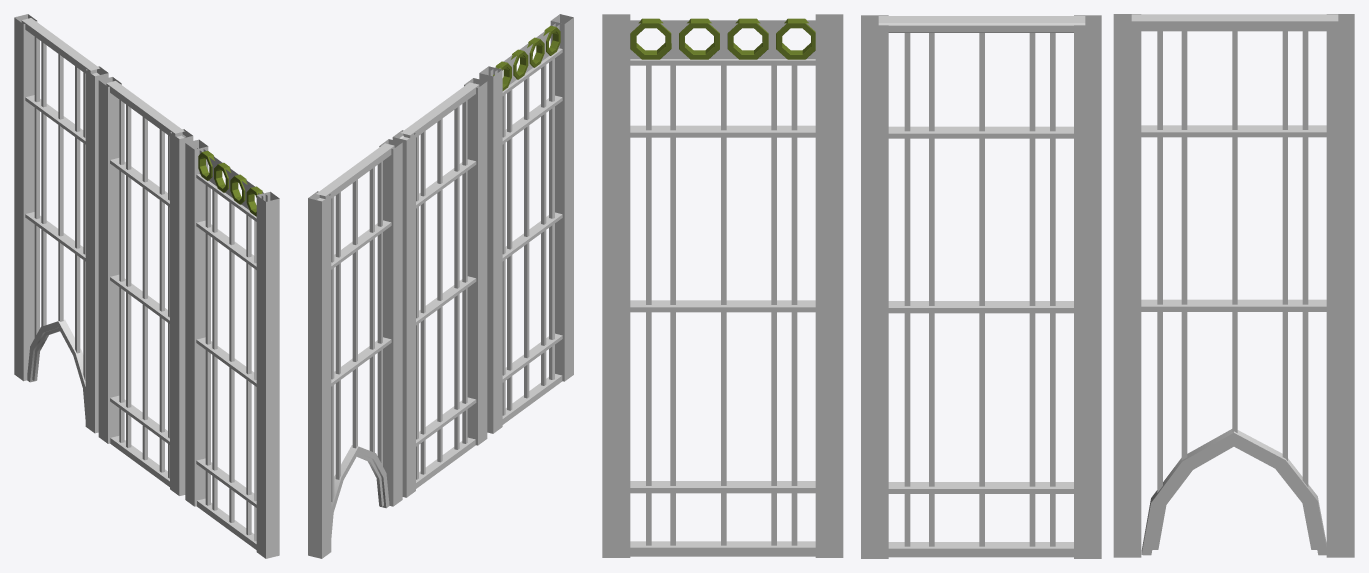
Rendered from M_LOD_Serre_Top_03.fbx.
The picture shows the model from 3 angles, left to right: view 1: azimuth 30°, elevation 25°; view 2: azimuth 150°, elevation 25°; view 3: azimuth 270°, elevation 25°; orthographic projection. The views are drawn at different scales.
Parts seen in each view (by area): view 1: Cube.007, Cube.003, Cube.002; view 2: Cube.002, Cube.007, Cube.003; view 3: Cube.007, Cube.003, Cube.002.
Boxes of the visible parts, x1,y1,x2,y2 form: Cube.007: (185, 139, 279, 558); Cube.003: (98, 77, 193, 495); Cube.002: (14, 14, 108, 433); Cube.002: (308, 139, 402, 558); Cube.007: (479, 14, 573, 433); Cube.003: (392, 78, 487, 497); Cube.007: (602, 14, 843, 557); Cube.003: (861, 15, 1101, 558); Cube.002: (1113, 14, 1354, 557).
Size of the model in its own units: 29.72 by 736 by 935.
